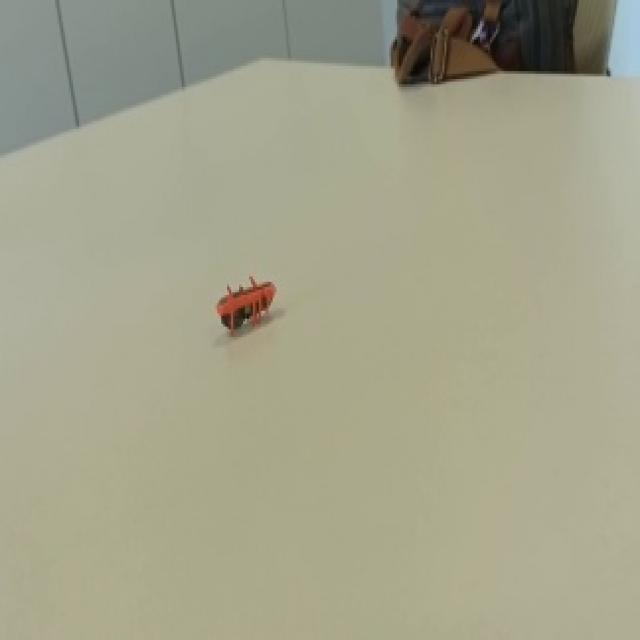7_NanoBug_Naranja: (168, 256, 316, 368)
